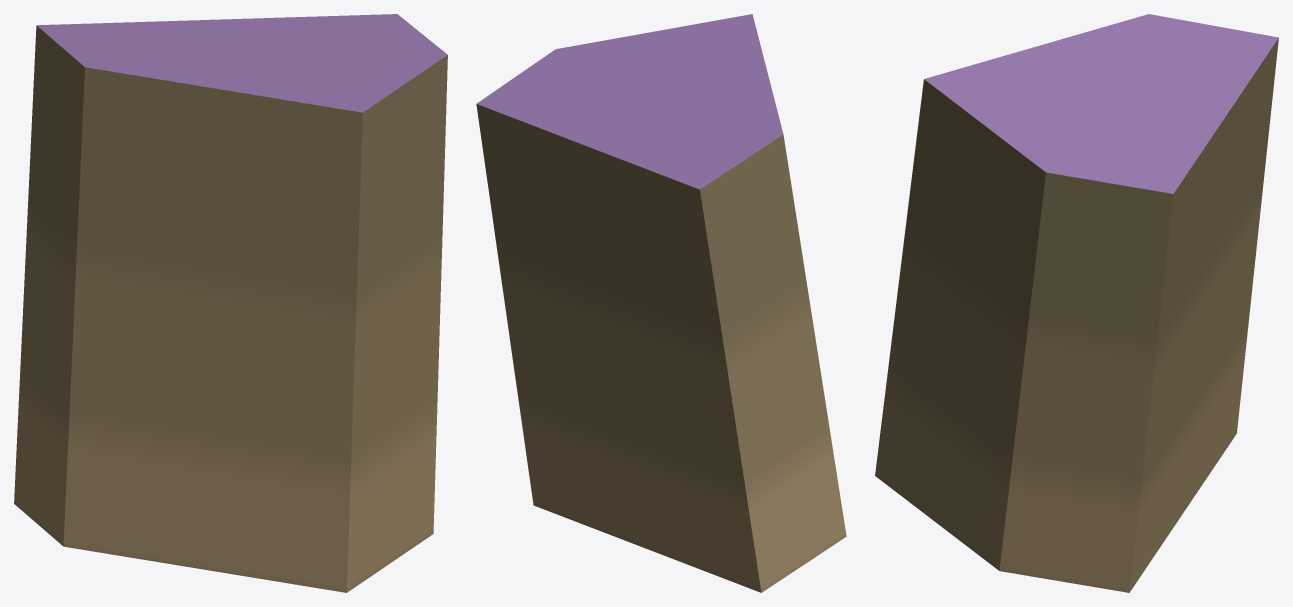
Rendered from 0646_Sa_o_Tome_and_Principe.glb.
3 views of the same model, side by side, from view 1: azimuth 30°, elevation 25°; view 2: azimuth 150°, elevation 25°; view 3: azimuth 270°, elevation 25° (orthographic). The views are drawn at different scales.
Parts seen in each view (by area): view 1: part_0; view 2: part_0; view 3: part_0.
Part boxes in pixels (left/top/right/bottom): part_0: left=14, top=14, right=447, bottom=592; part_0: left=476, top=14, right=846, bottom=592; part_0: left=875, top=14, right=1278, bottom=592.
Size of the model in its own units: 0.1707 by 0.2166 by 0.1742.
1 material, 1 textured.
